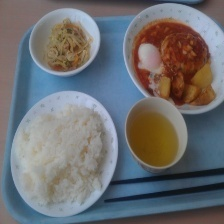rice: (13, 101, 111, 206)
